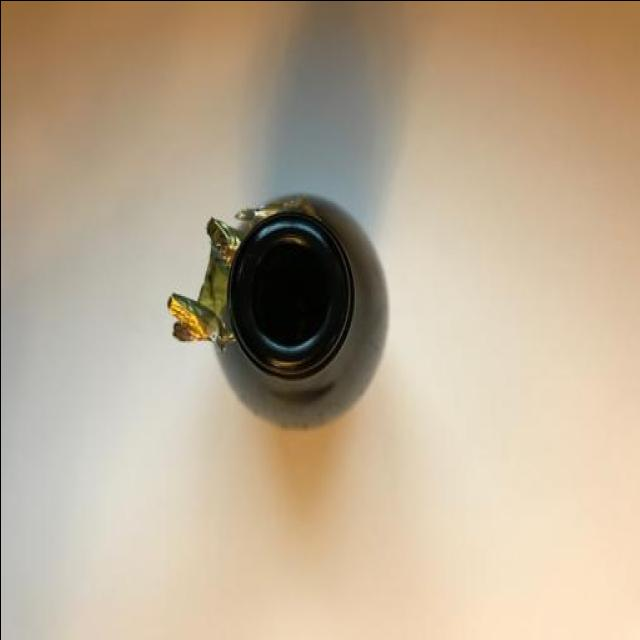glass: (177, 184, 391, 428)
